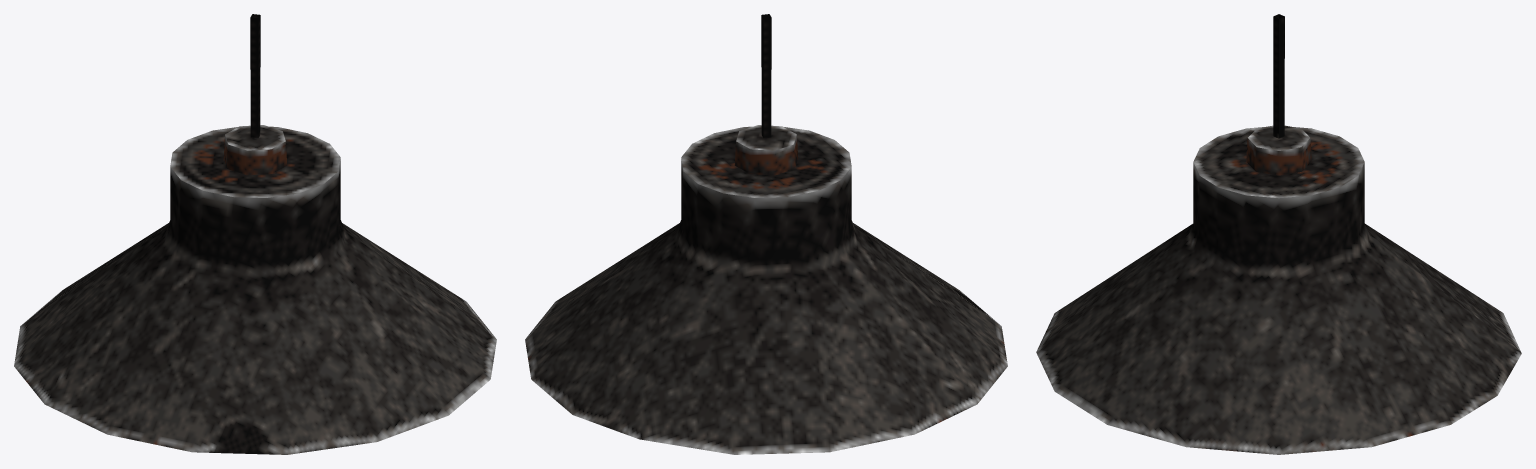
The model's file is ceiling_lamp_lod0.fbx.
3 renders of one model, left to right at view 1: azimuth 30°, elevation 25°; view 2: azimuth 150°, elevation 25°; view 3: azimuth 270°, elevation 25°, orthographic.
Parts seen in each view (by area): view 1: lamp_head_lod0; view 2: lamp_head_lod0; view 3: lamp_head_lod0.
Part boxes in pixels (x1,y1,x2,y2): lamp_head_lod0: (14, 14, 496, 454); lamp_head_lod0: (525, 14, 1007, 454); lamp_head_lod0: (1036, 14, 1521, 454).
Bounding box in the file's own units: 200 × 180 × 200.
